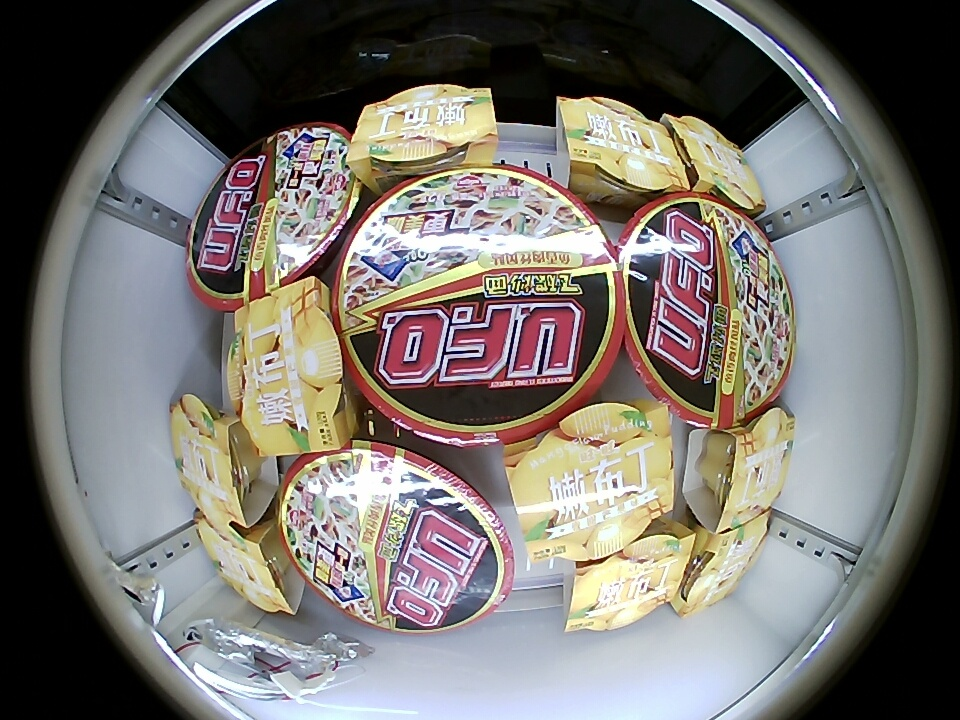buding: (505, 400, 675, 560), (228, 277, 351, 455), (349, 84, 499, 183), (566, 524, 696, 633), (558, 95, 687, 201), (690, 407, 796, 530), (170, 392, 268, 524), (671, 512, 770, 616), (665, 115, 765, 215), (197, 515, 297, 614)
ufo2: (337, 163, 626, 447), (276, 441, 515, 634), (618, 193, 797, 427), (186, 122, 367, 309)
